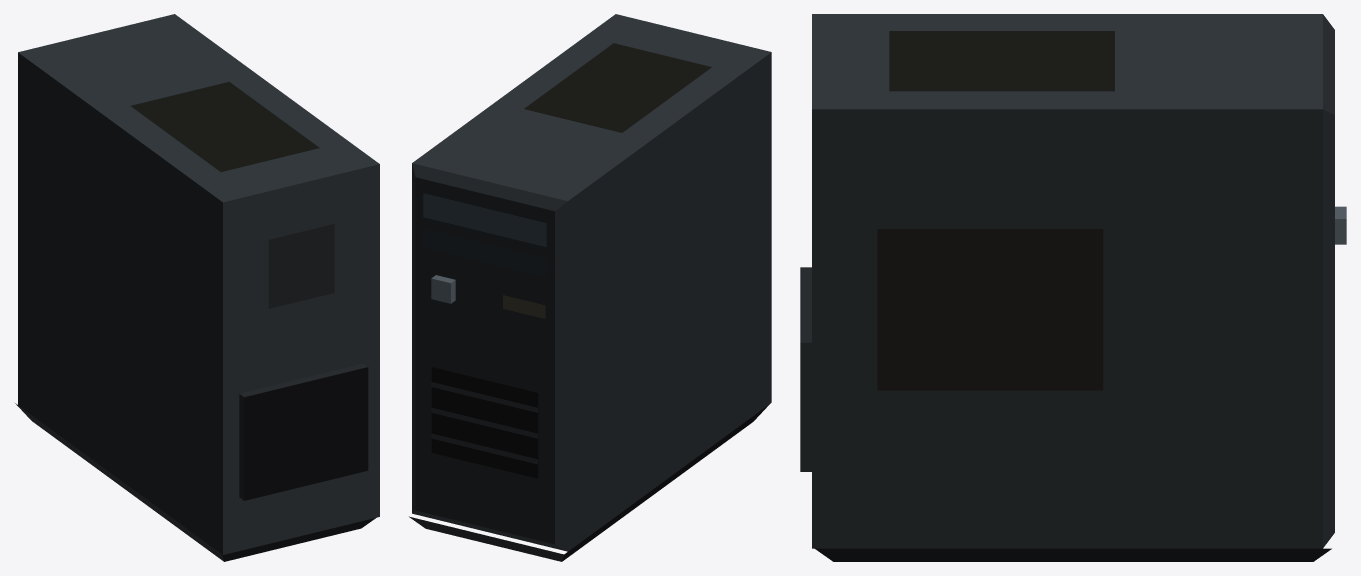
The model's file is lp_pc_tower.glb.
3 renders of one model, left to right at view 1: azimuth 30°, elevation 25°; view 2: azimuth 150°, elevation 25°; view 3: azimuth 270°, elevation 25°, orthographic. The views are drawn at different scales.
Parts seen in each view (by area): view 1: lp_pc_tower; view 2: lp_pc_tower; view 3: lp_pc_tower.
Part boxes in pixels (bbox=[...]): lp_pc_tower: bbox=[15, 14, 379, 561]; lp_pc_tower: bbox=[409, 14, 771, 561]; lp_pc_tower: bbox=[800, 14, 1346, 561].
Bounding box in the file's own units: 0.1905 × 0.4265 × 0.46.
1 material, 1 textured.
